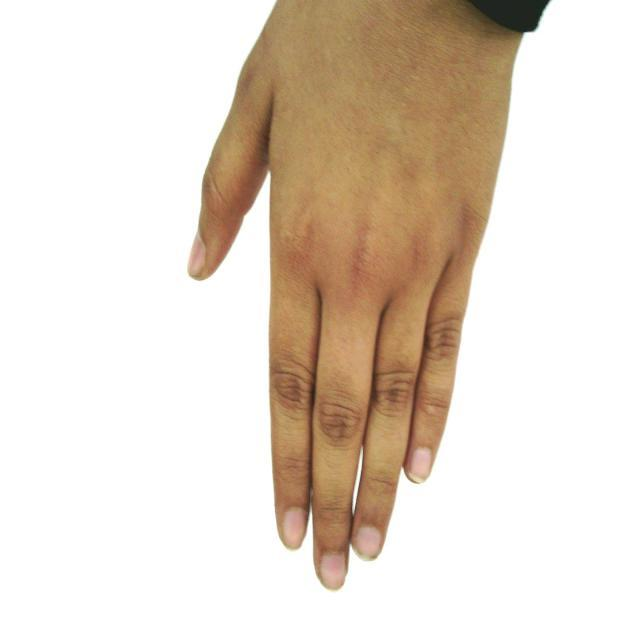Fingernail: (283, 509, 305, 550), (321, 554, 345, 590), (354, 528, 380, 560), (409, 447, 431, 482), (187, 237, 205, 276)
